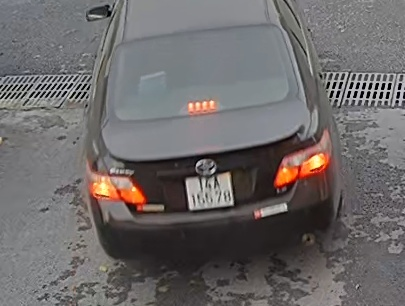vehicle plate: (180, 173, 236, 213)
